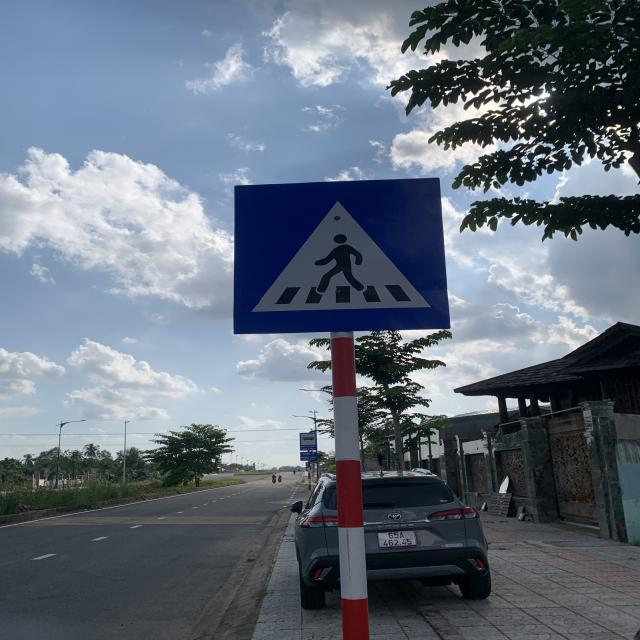Giao_Nhau_Duong_Uu_Tien: (233, 176, 448, 334)
